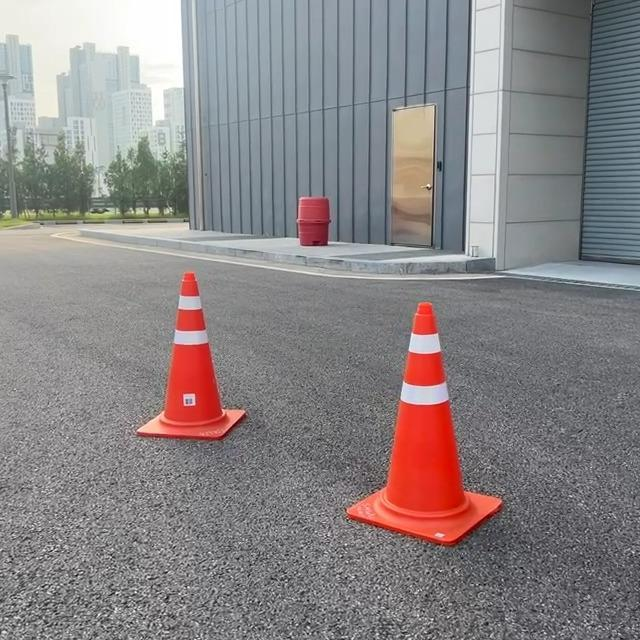fallen_object: (272, 277, 501, 574), (123, 260, 250, 450)
